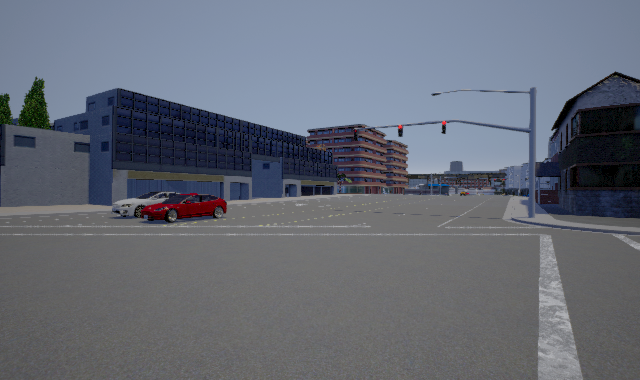traffic_light: (441, 121, 446, 134), (354, 129, 359, 141), (398, 125, 403, 137)
vehicle: (147, 192, 227, 223), (111, 188, 191, 219)
